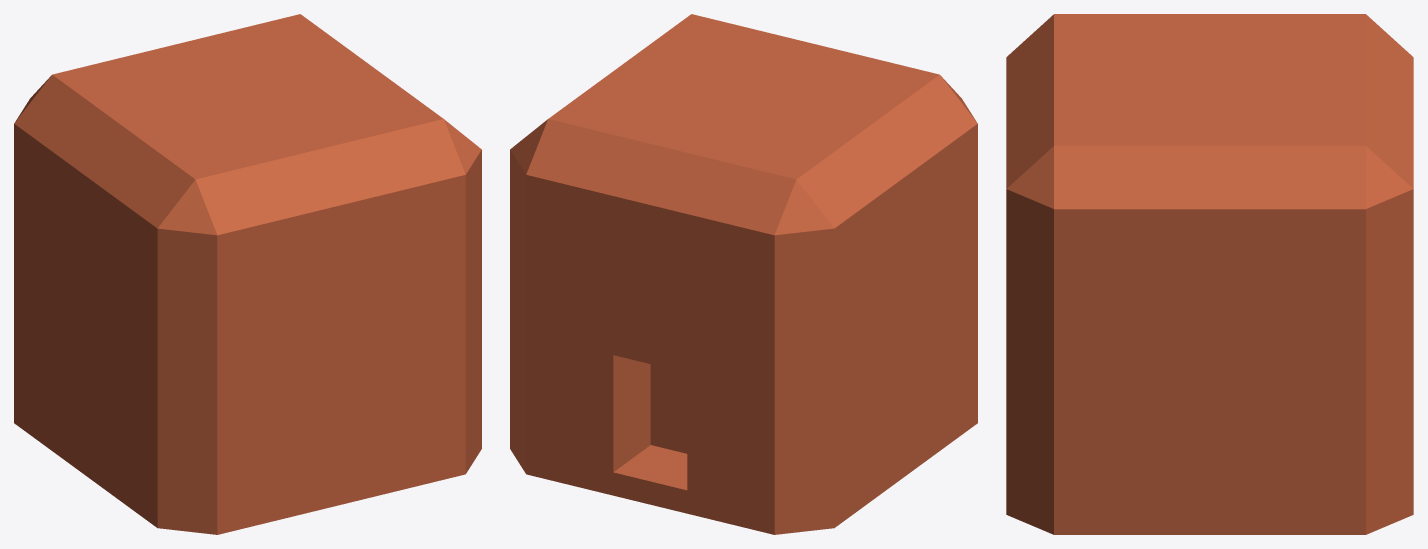
File: mansion.fbx
3 renders of one model, left to right at view 1: azimuth 30°, elevation 25°; view 2: azimuth 150°, elevation 25°; view 3: azimuth 270°, elevation 25°, orthographic. The views are drawn at different scales.
Parts seen in each view (by area): view 1: mansion; view 2: mansion; view 3: mansion.
Boxes of the visible parts, left/top/right/bottom form: mansion: left=14, top=14, right=481, bottom=534; mansion: left=510, top=14, right=977, bottom=534; mansion: left=1006, top=14, right=1413, bottom=534.
Bounding box in the file's own units: 1000 × 1000 × 1000.
